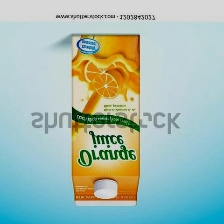carton: (67, 30, 144, 207)
